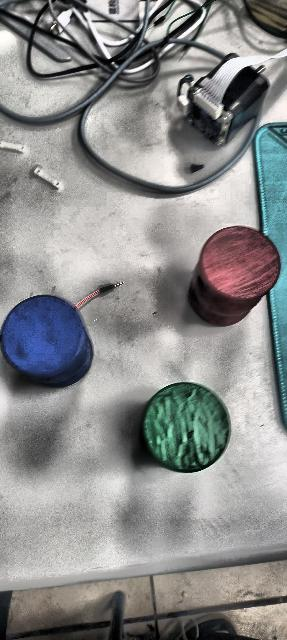blue: (1, 294, 93, 388)
green: (142, 382, 230, 472)
red: (193, 223, 277, 326)
